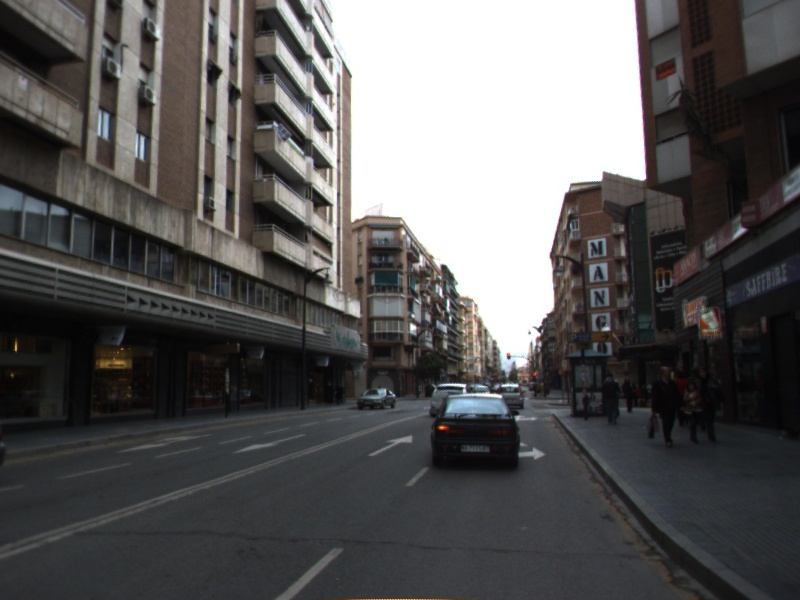STRAIGHT: (366, 433, 414, 459)
